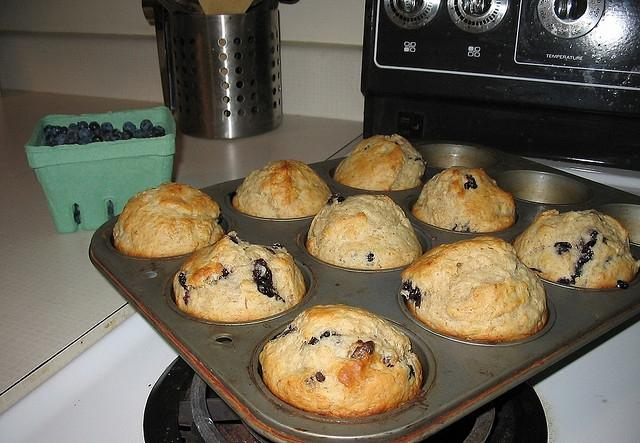blueberry: (512, 208, 640, 288), (252, 258, 286, 302), (400, 280, 422, 308), (351, 341, 375, 358), (464, 174, 478, 190), (327, 192, 345, 204), (150, 125, 166, 137), (140, 119, 152, 133), (101, 122, 114, 132), (123, 122, 136, 132), (64, 136, 78, 145), (78, 136, 92, 145), (178, 272, 187, 286), (282, 325, 294, 335), (44, 140, 60, 147), (76, 121, 88, 130), (316, 372, 325, 383), (133, 129, 144, 138), (108, 134, 122, 141), (44, 124, 52, 136), (228, 235, 238, 244), (95, 128, 104, 138), (92, 136, 104, 142), (228, 192, 237, 198), (56, 126, 61, 135), (368, 254, 373, 262), (324, 332, 330, 338), (415, 158, 421, 161), (364, 148, 366, 150)
